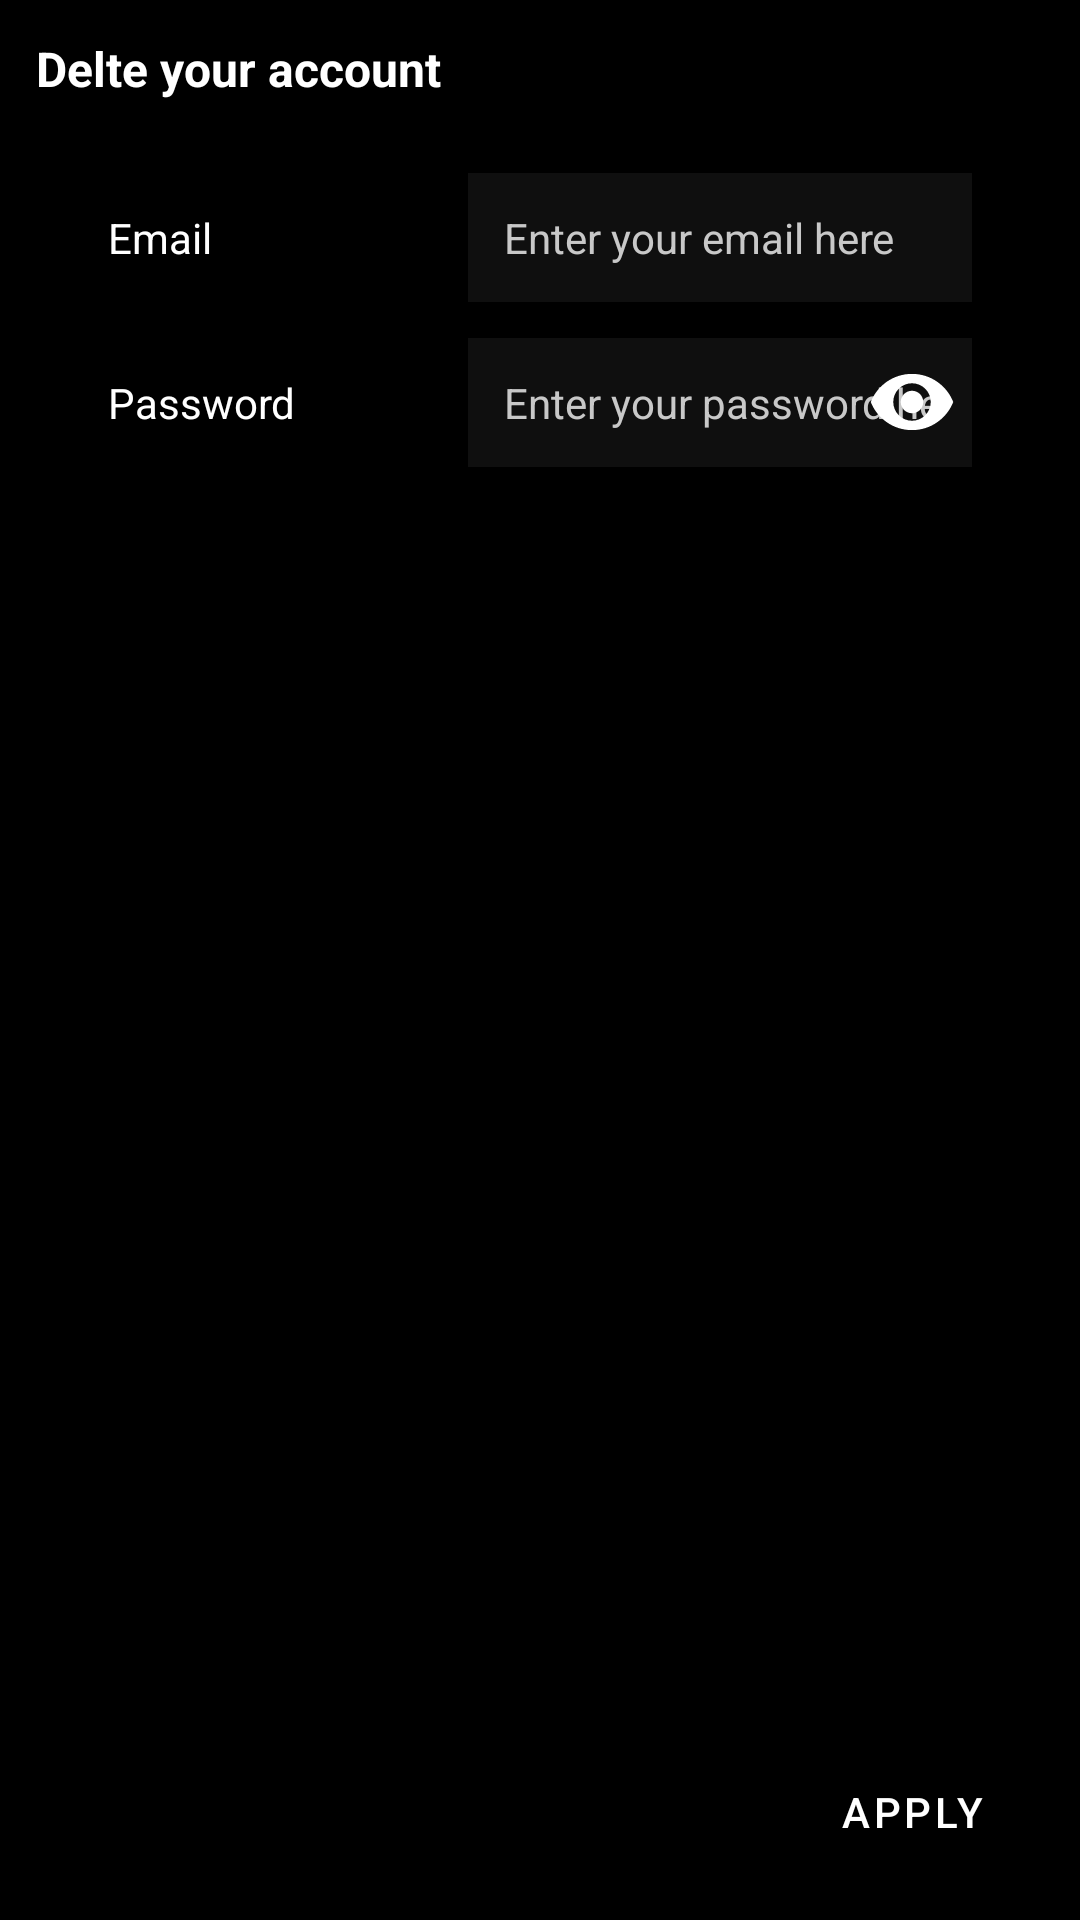

Named icons in this screenshot (1080px×1920px) and their centers, point (x, y):
show password: point (910, 402)
